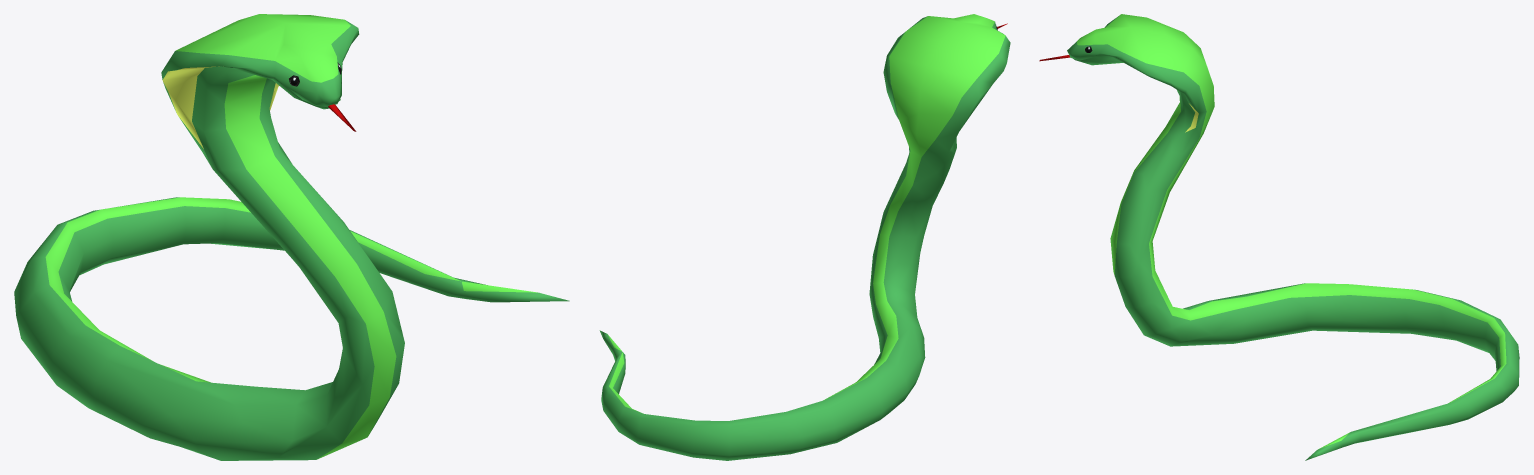
3 views of the same model, side by side, from view 1: azimuth 30°, elevation 25°; view 2: azimuth 150°, elevation 25°; view 3: azimuth 270°, elevation 25° (orthographic). The views are drawn at different scales.
Visible parts, largest first — view 1: Snake; view 2: Snake; view 3: Snake.
Boxes of the visible parts, <box> form: Snake: <box>14,14,569,460</box>; Snake: <box>599,14,1010,460</box>; Snake: <box>1039,14,1519,460</box>.
Size of what is drawn, in the model's own units: 0.7522 by 0.6922 by 0.9692.
1 material, 1 textured.
